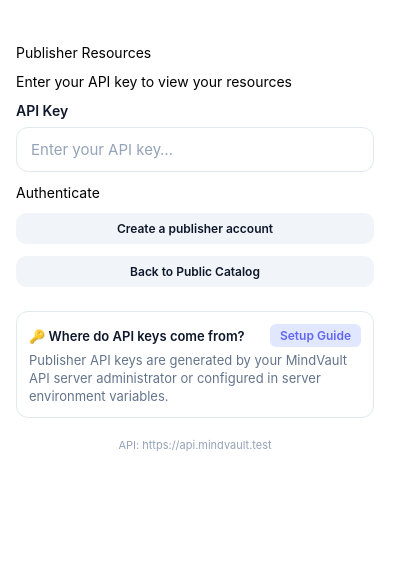
Test: PublisherResourcesScreen - Publisher Signup › opens PublisherSignupSheet when 'Create a publisher account' is pressed
Click the text "Create a publisher account". click: (195, 228)
box: [117,221,273,236]
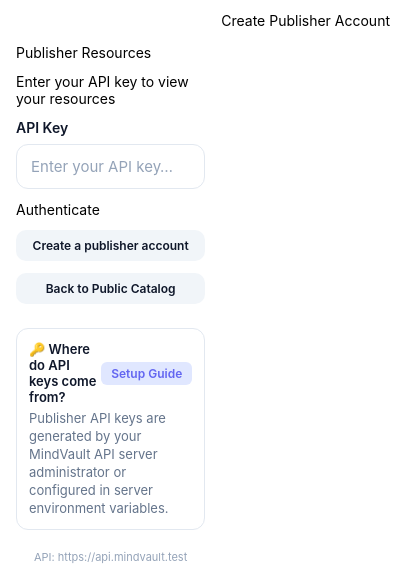
Expected: the element with test id "signup-modal" is shown, [221,12,390,29]
